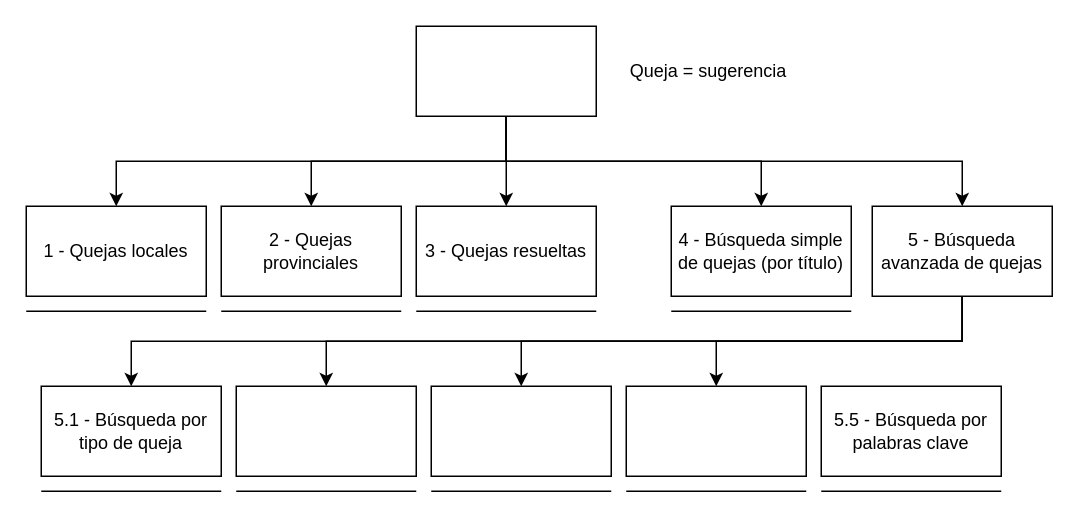
This 1079x519 diagram has some shape labels left out. Here are the shapes that lost their labels. From the top down, the box of each, then its label:
(415, 25, 596, 116): 0 - Clasificación de quejas y sugerencias
(235, 385, 416, 476): 5.2 - Búsqueda por contenido de la queja
(430, 385, 611, 476): 5.3 - Búsqueda por creación de la queja
(625, 385, 806, 476): 5.4 - Búsqueda por estado de la queja
